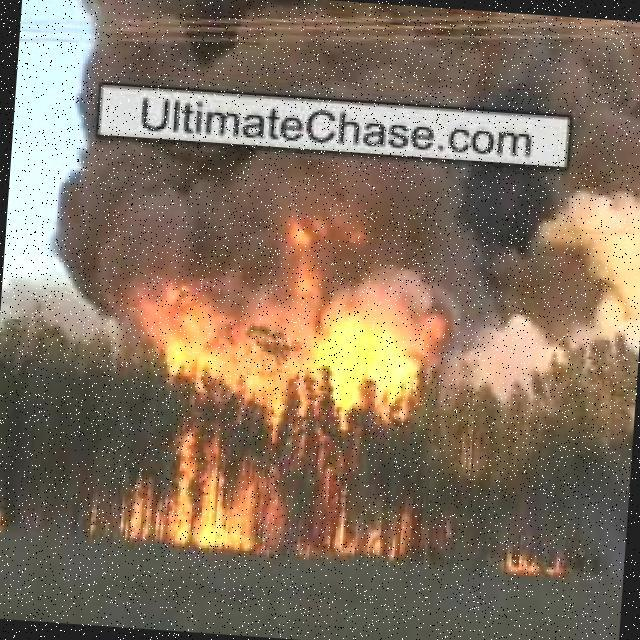Fire: (118, 222, 460, 567), (503, 545, 572, 578), (0, 504, 5, 538)
